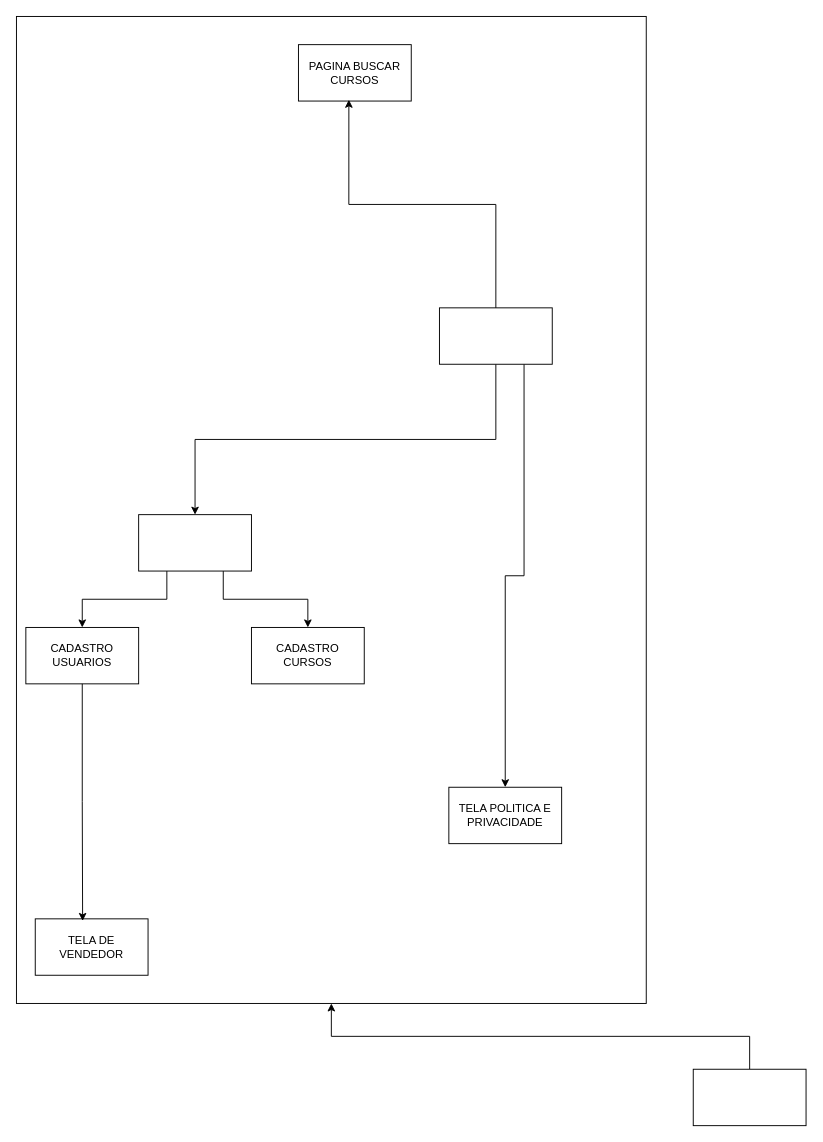
The diagram is 823 pixels wide and 1142 high, and some of its shapes have lost their labels. The shapes that lost their labels are listed below. From the top down, each one's centre as x and y in pixels, then its label:
point 495,335: PAGINA INICIAL
point 194,542: CADASTRO
point 749,1097: PAGINA ADM
